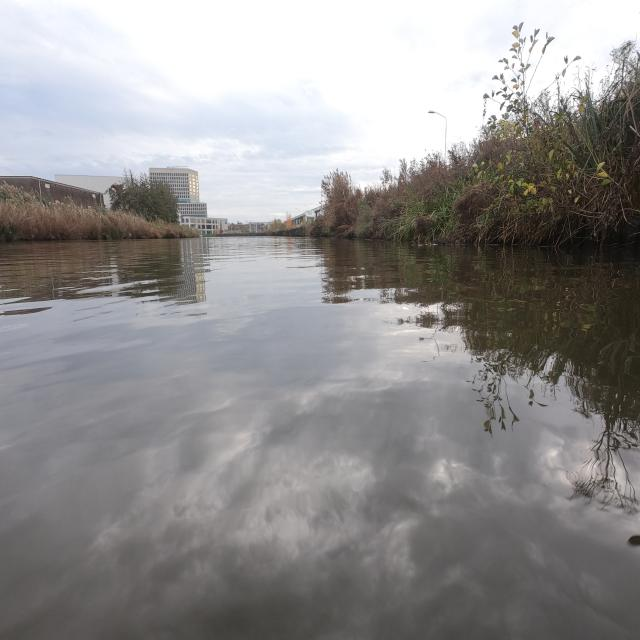reed: (312, 22, 640, 246), (0, 189, 199, 240)
sky: (3, 2, 520, 220)
water: (1, 232, 639, 639)
